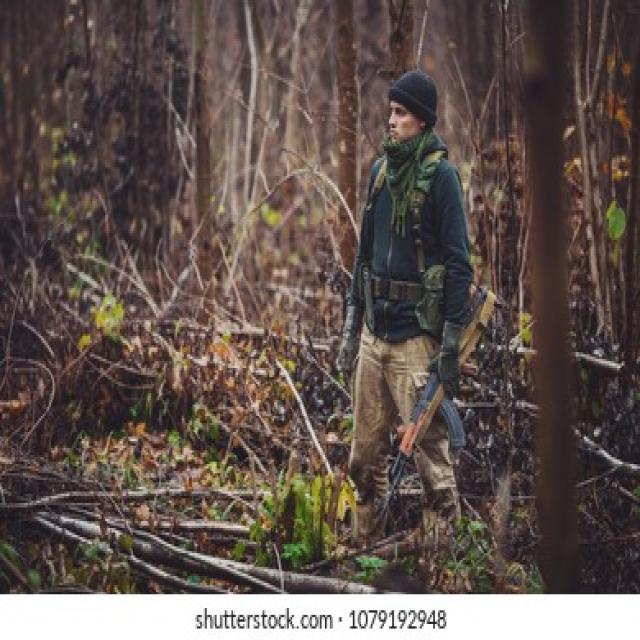Forest: (0, 0, 640, 588)
Militant: (344, 54, 485, 534)
